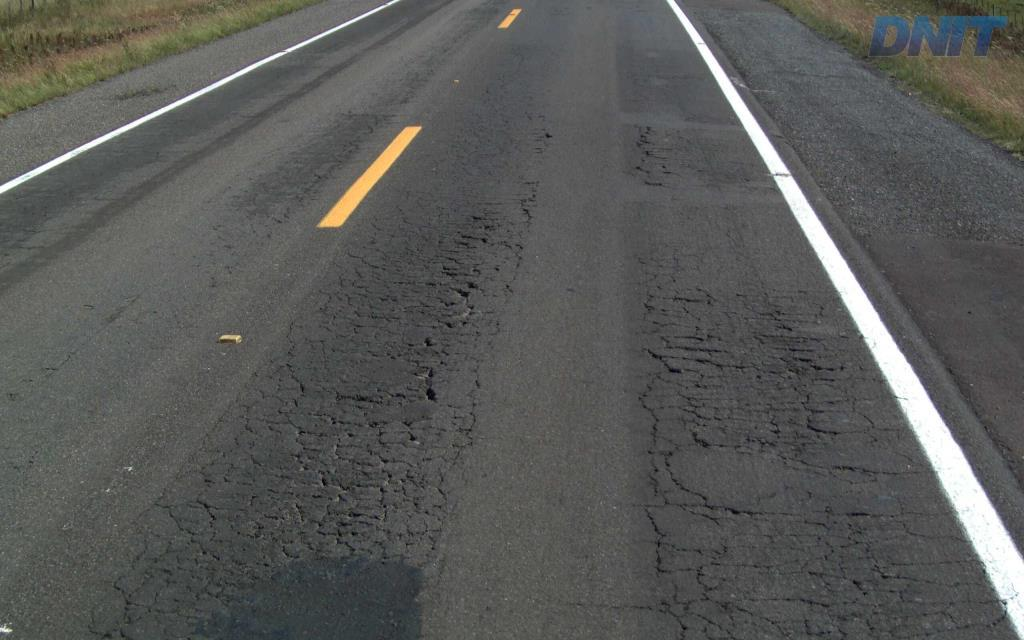crack: (194, 517, 421, 602), (660, 450, 762, 517), (330, 469, 387, 522), (644, 504, 671, 577), (778, 355, 835, 380), (409, 358, 437, 402)
